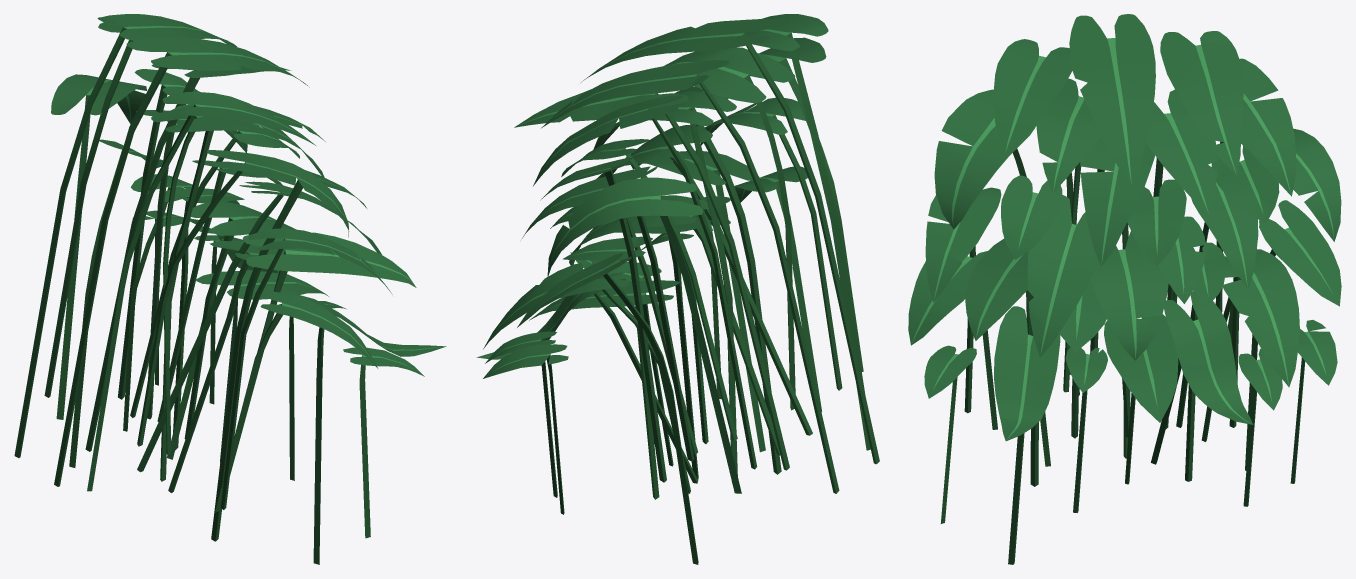
The model's file is plant_monstera_D.fbx.
3 views of the same model, side by side, from view 1: azimuth 30°, elevation 25°; view 2: azimuth 150°, elevation 25°; view 3: azimuth 270°, elevation 25° (orthographic). The views are drawn at different scales.
Parts seen in each view (by area): view 1: plant_monstera_D; view 2: plant_monstera_D; view 3: plant_monstera_D.
Boxes of the visible parts, x1=… form: plant_monstera_D: x1=14, y1=14, x2=446, y2=564; plant_monstera_D: x1=476, y1=14, x2=879, y2=564; plant_monstera_D: x1=908, y1=14, x2=1341, y2=564.
Size of the model in its own units: 309 by 430 by 345.
